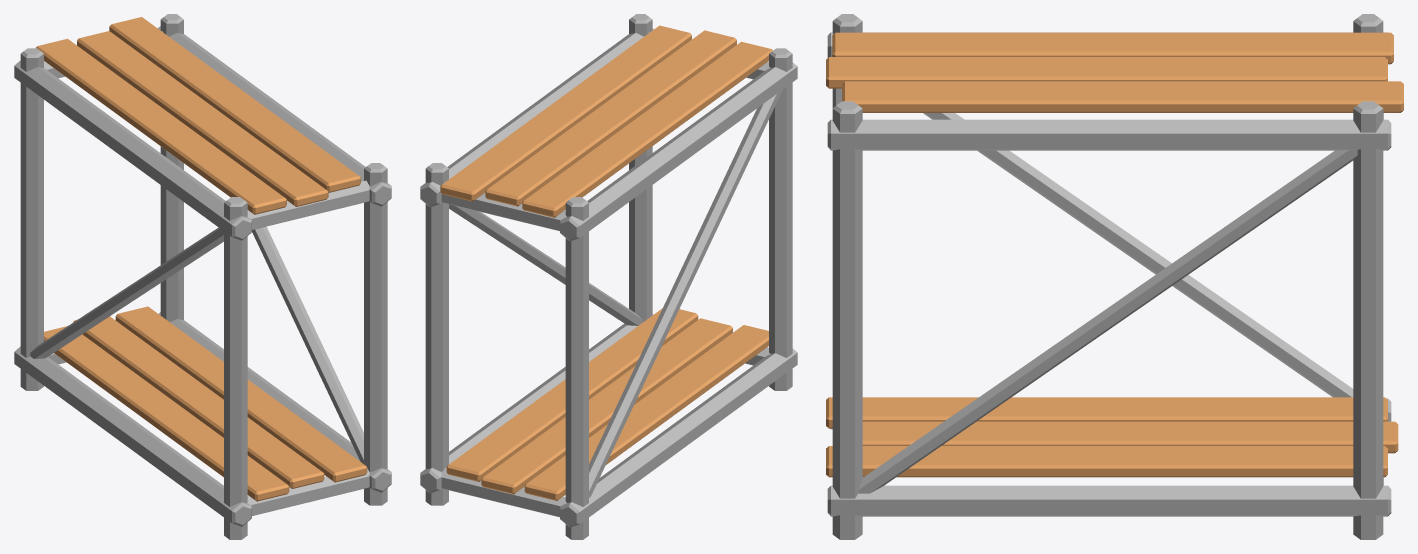
The model's file is Scaffolding A.glb.
3 views of the same model, side by side, from view 1: azimuth 30°, elevation 25°; view 2: azimuth 150°, elevation 25°; view 3: azimuth 270°, elevation 25° (orthographic). The views are drawn at different scales.
Parts seen in each view (by area): view 1: Scaffolding A; view 2: Scaffolding A; view 3: Scaffolding A.
Part boxes in pixels (<box>): Scaffolding A: <box>14,14,391,539</box>; Scaffolding A: <box>420,14,797,539</box>; Scaffolding A: <box>826,14,1403,539</box>.
Bounding box in the file's own units: 194 × 390 × 476.
